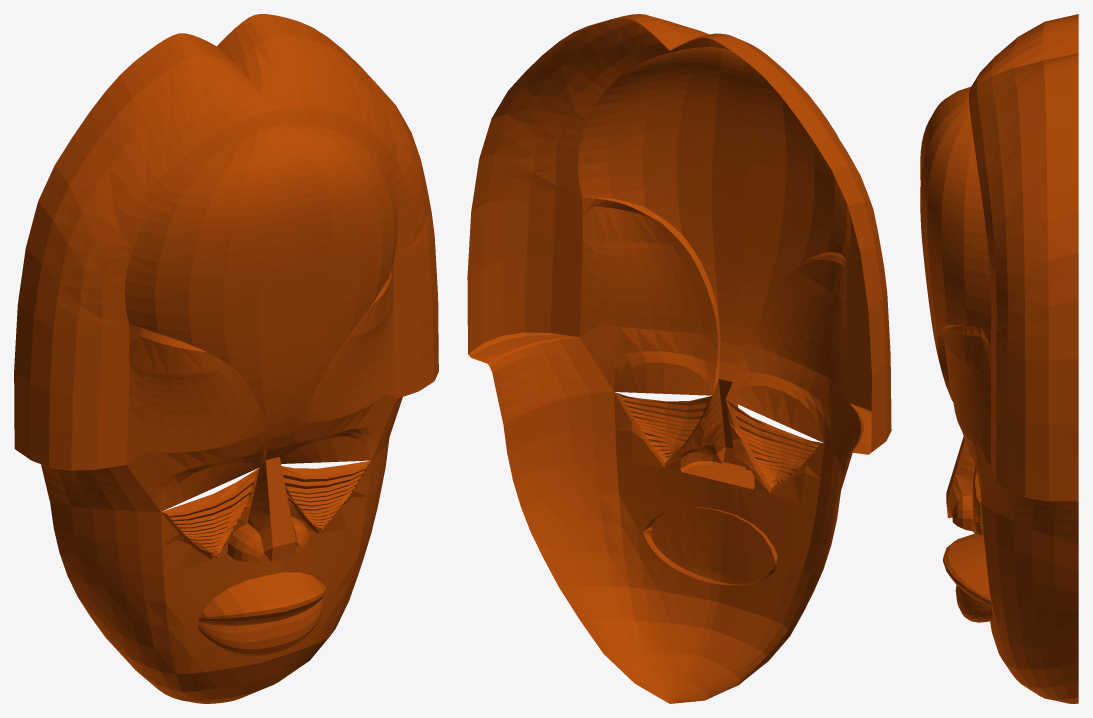
The model's file is african_mask.fbx.
The picture shows the model from 3 angles, left to right: view 1: azimuth 30°, elevation 25°; view 2: azimuth 150°, elevation 25°; view 3: azimuth 270°, elevation 25°; orthographic projection. The views are drawn at different scales.
Parts seen in each view (by area): view 1: Form78, Form79, Form84, Form59, Form591, Form85; view 2: Form78, Form79, Form59, Form591, Form85; view 3: Form78, Form79, Form84, Form85, Form591.
Part boxes in pixels (left/top/right/bottom): Form78: left=14, top=14, right=438, bottom=562; Form79: left=41, top=260, right=402, bottom=703; Form84: left=198, top=572, right=326, bottom=625; Form59: left=161, top=468, right=259, bottom=559; Form591: left=281, top=460, right=371, bottom=533; Form85: left=198, top=596, right=323, bottom=655; Form78: left=467, top=14, right=891, bottom=489; Form79: left=489, top=197, right=860, bottom=703; Form59: left=726, top=399, right=823, bottom=493; Form591: left=614, top=392, right=712, bottom=467; Form85: left=643, top=530, right=776, bottom=585; Form78: left=920, top=14, right=1078, bottom=531; Form79: left=944, top=326, right=1078, bottom=703; Form84: left=943, top=533, right=991, bottom=604; Form85: left=955, top=585, right=992, bottom=622; Form591: left=972, top=466, right=983, bottom=535.
Bounding box in the file's own units: 935 × 1491 × 324.
